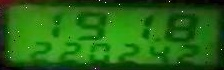-: (154, 37, 161, 41)
0: (88, 41, 110, 61)
1: (139, 11, 153, 39), (50, 12, 62, 36)
2: (28, 40, 51, 62), (57, 40, 80, 62), (115, 42, 139, 62), (175, 43, 197, 64)
4: (146, 44, 169, 64)
8: (165, 13, 196, 41)
9: (74, 11, 106, 39)
